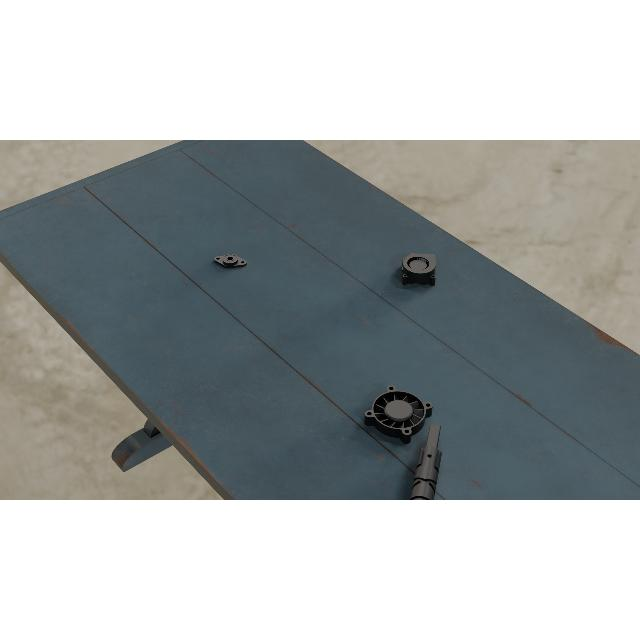Pieza1: (401, 420, 447, 500)
Pieza2: (211, 250, 249, 270)
Pieza3: (402, 253, 436, 287)
Pieza4: (361, 384, 435, 446)
